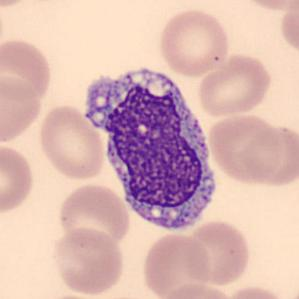Monocyte: (89, 57, 222, 240)
RBC: (204, 111, 286, 186), (36, 102, 108, 182), (50, 224, 127, 296), (156, 6, 231, 78), (56, 181, 132, 252), (194, 51, 274, 118), (179, 218, 253, 287), (140, 230, 211, 298), (239, 121, 298, 190), (0, 36, 55, 103), (0, 72, 44, 146), (0, 141, 36, 216), (157, 281, 236, 299), (278, 0, 298, 58), (220, 283, 290, 299), (236, 0, 299, 12), (0, 0, 36, 9)
